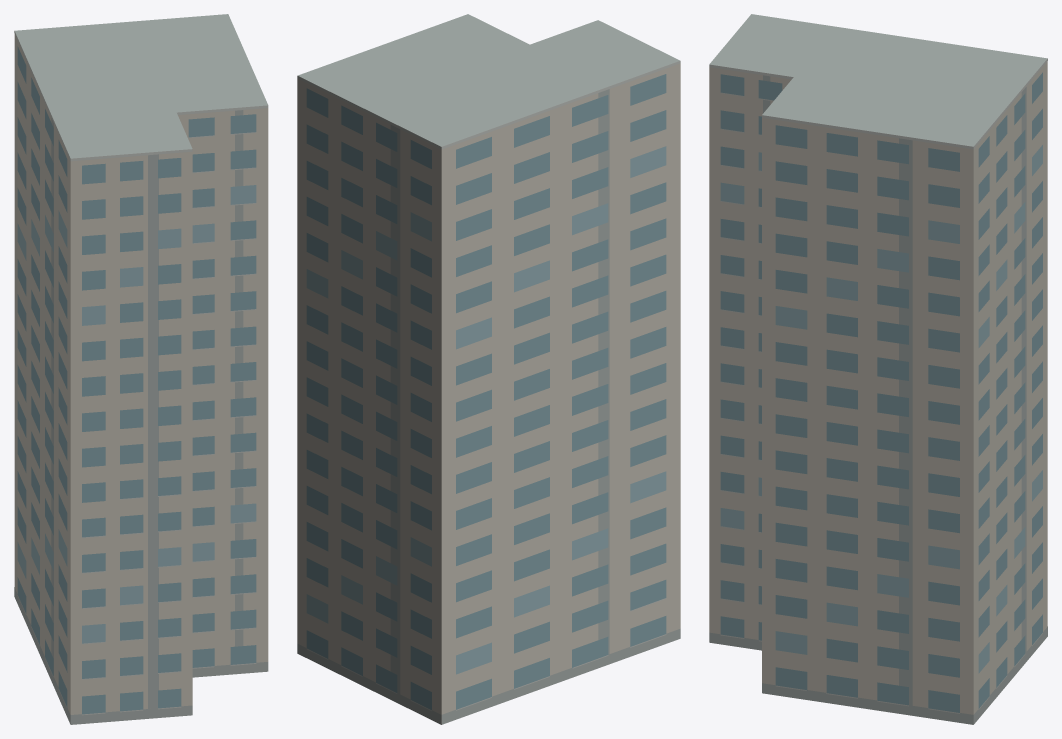
Rendered from residential-d9a16469-c308-47b3-b988-c24e4b844abb.glb.
The picture shows the model from 3 angles, left to right: view 1: azimuth 30°, elevation 25°; view 2: azimuth 150°, elevation 25°; view 3: azimuth 270°, elevation 25°; orthographic projection. The views are drawn at different scales.
Parts seen in each view (by area): view 1: residential-d9a16469-c308-47b3-b988-c24e4b844abb.tmp; view 2: residential-d9a16469-c308-47b3-b988-c24e4b844abb.tmp; view 3: residential-d9a16469-c308-47b3-b988-c24e4b844abb.tmp.
Boxes of the visible parts, x1,y1,x2,y2 form: residential-d9a16469-c308-47b3-b988-c24e4b844abb.tmp: (14, 14, 268, 724); residential-d9a16469-c308-47b3-b988-c24e4b844abb.tmp: (297, 14, 680, 724); residential-d9a16469-c308-47b3-b988-c24e4b844abb.tmp: (709, 14, 1047, 724).
Size of the model in its own units: 25.62 by 52 by 27.61.
